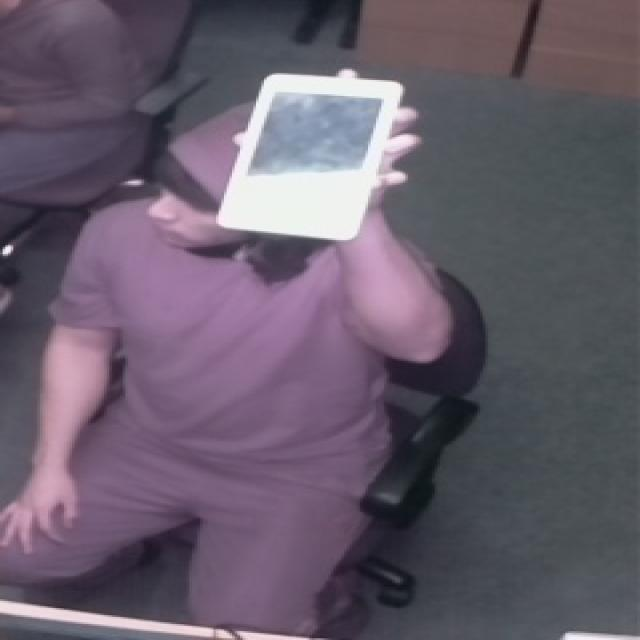phone: (203, 60, 430, 258)
